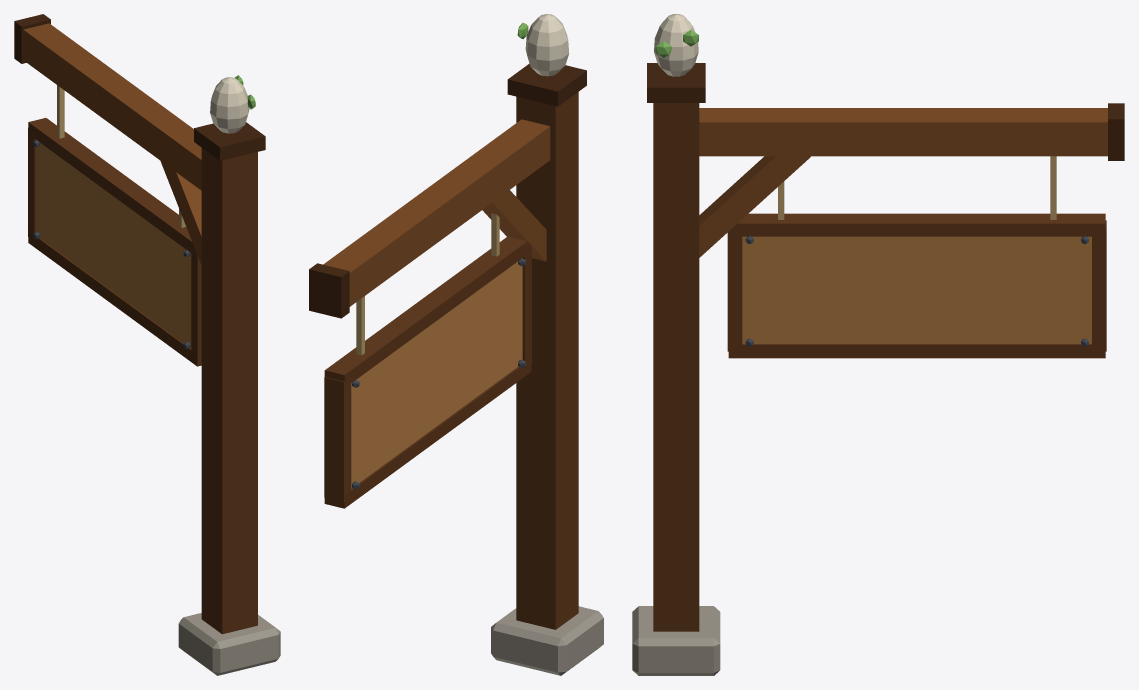
Rendered from ranch_sign.glb.
3 renders of one model, left to right at view 1: azimuth 30°, elevation 25°; view 2: azimuth 150°, elevation 25°; view 3: azimuth 270°, elevation 25°, orthographic. The views are drawn at different scales.
Visible parts, largest first — view 1: ranch_sign, plank; view 2: ranch_sign, plank; view 3: ranch_sign, plank.
Part boxes in pixels (bbox=[...]): ranch_sign: bbox=[14, 14, 280, 675]; plank: bbox=[28, 85, 201, 366]; ranch_sign: bbox=[309, 14, 603, 675]; plank: bbox=[324, 213, 531, 508]; ranch_sign: bbox=[632, 14, 1124, 675]; plank: bbox=[727, 156, 1106, 358].
Bounding box in the file's own units: 0.42 × 3.4 × 2.35.
